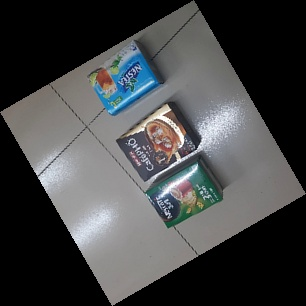CF pho: (116, 97, 203, 183)
Nes Rang: (143, 156, 225, 228)
Nestea: (87, 40, 165, 117)
